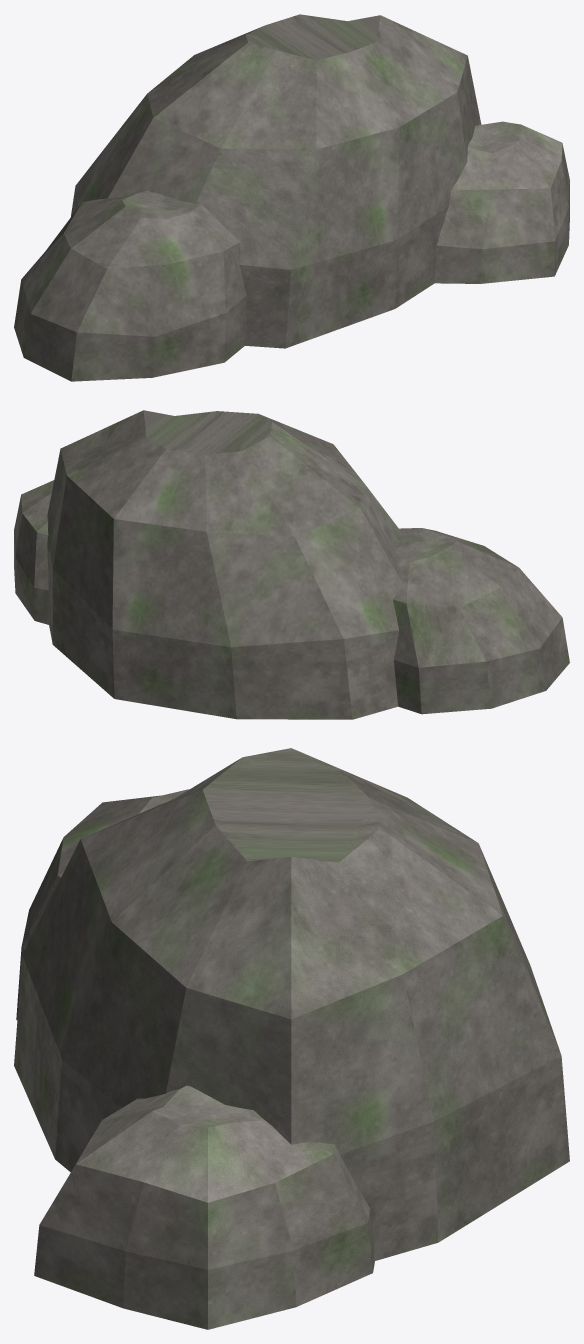
Rendered from crag.glb.
3 renders of one model, top to bottom at view 1: azimuth 30°, elevation 25°; view 2: azimuth 150°, elevation 25°; view 3: azimuth 270°, elevation 25°, orthographic. The views are drawn at different scales.
Visible parts, largest first — view 1: crag; view 2: crag; view 3: crag.
Part boxes in pixels (x1,y1,x2,y2): crag: [14, 14, 569, 381]; crag: [14, 410, 569, 719]; crag: [14, 748, 569, 1329].
Size of the model in its own units: 4.66 by 1.85 by 2.6.
1 material, 1 textured.
